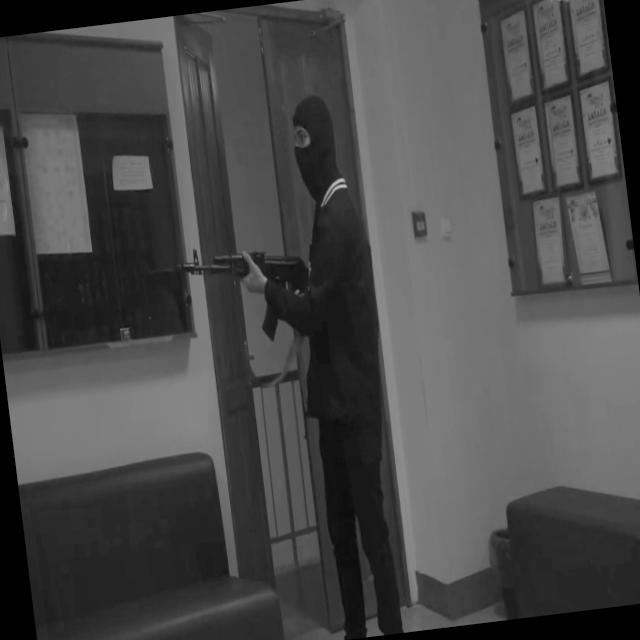gun: (177, 231, 322, 352)
person with a gun: (160, 89, 417, 640)
